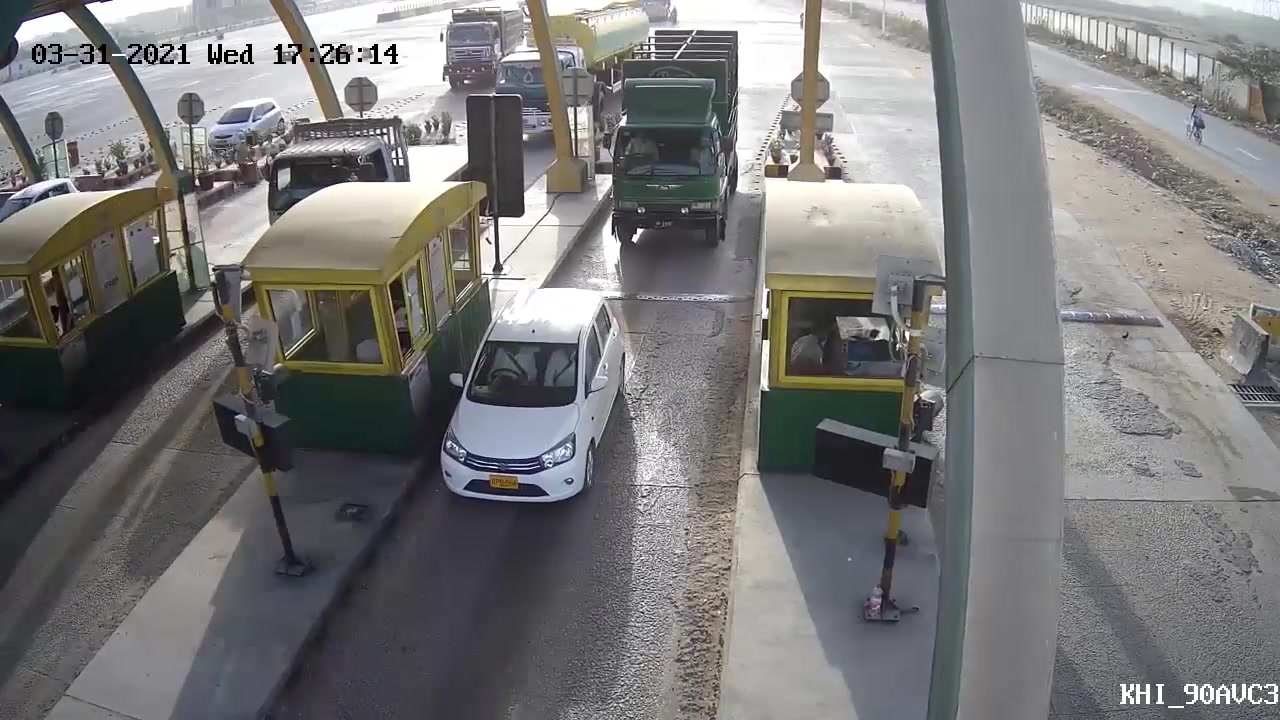F1: (431, 273, 648, 523)
F5: (604, 16, 749, 255)
